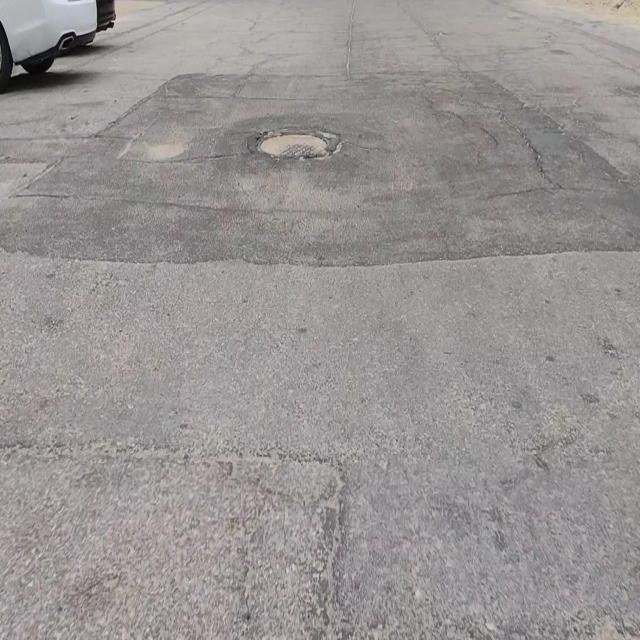Potholes: (255, 129, 333, 162)
